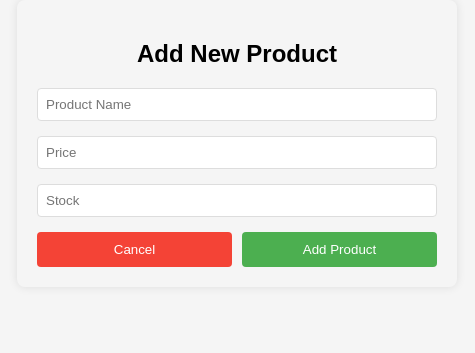
Scenario: AddProduct Page › should handle generic error
This screenshot has width=475, height=353.
In the field with placeholder "Product Name": (237, 104) [37,88,437,121], type "Test Product"
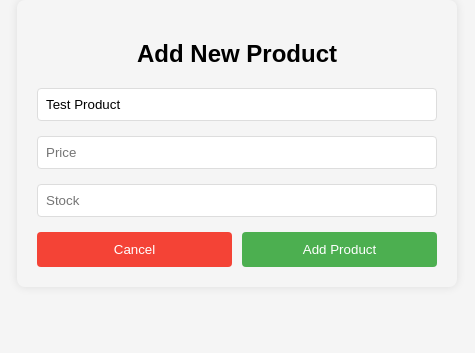
In the number field with placeholder "Price": (237, 152) [37,136,437,169], type "99.99"
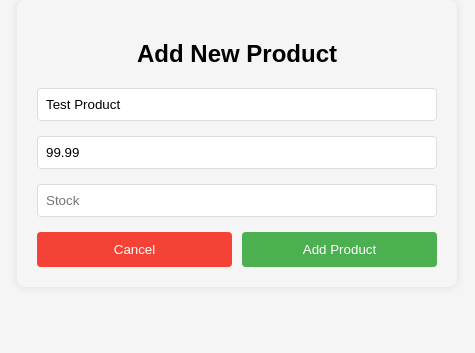
In the number field with placeholder "Stock": (237, 200) [37,184,437,217], type "10"
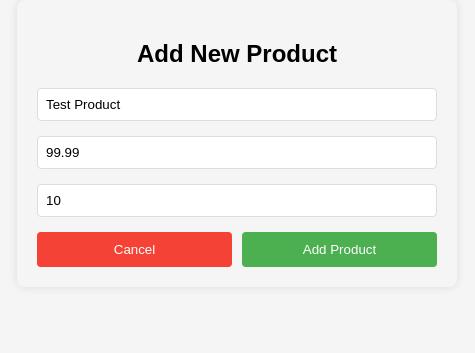
Click the button "Add Product": (340, 249) [242,232,437,267]
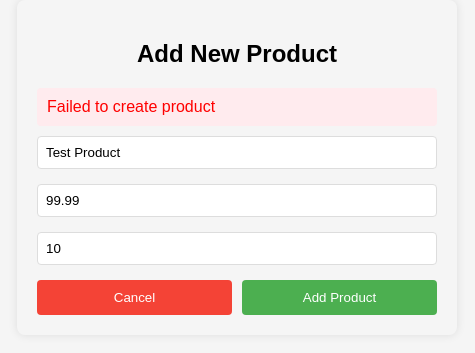
Now the text "Failed to create product" is shown, box [37,88,437,126]
